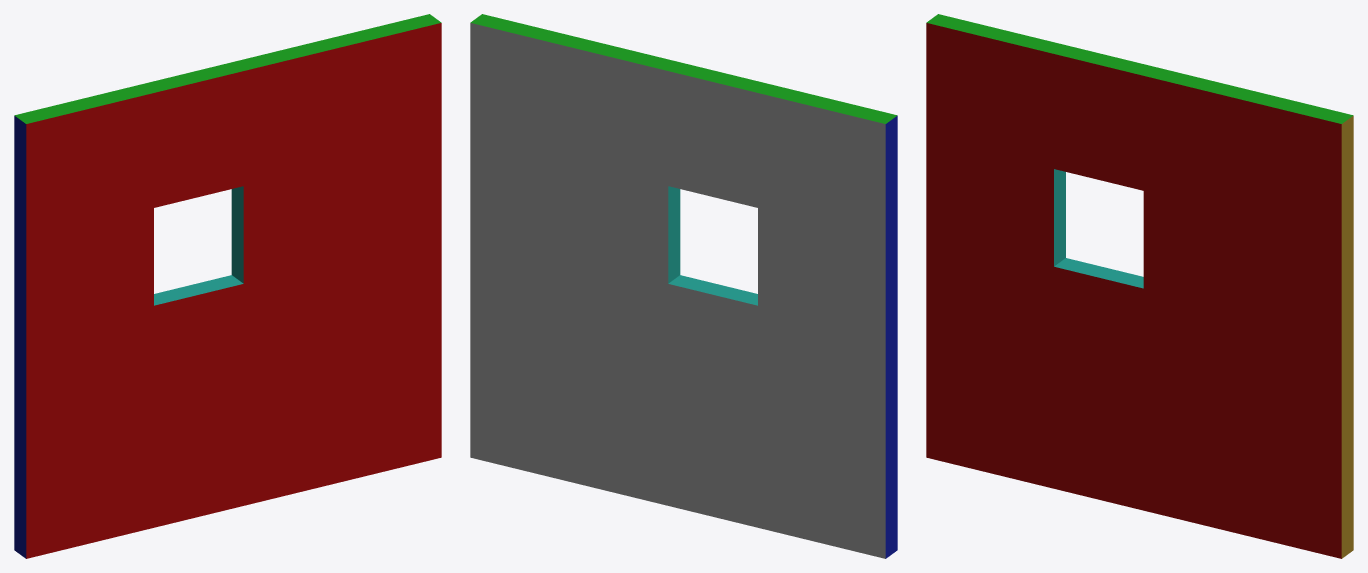
File: Wall_Window_04a.fbx
3 renders of one model, left to right at view 1: azimuth 30°, elevation 25°; view 2: azimuth 150°, elevation 25°; view 3: azimuth 330°, elevation 25°, orthographic.
Parts seen in each view (by area): view 1: Wall_Window_04a; view 2: Wall_Window_04a; view 3: Wall_Window_04a.
Boxes of the visible parts, box(x1,y1,x2,y2) form: Wall_Window_04a: box(14, 14, 441, 558); Wall_Window_04a: box(470, 14, 897, 558); Wall_Window_04a: box(926, 14, 1353, 558).
Bounding box in the file's own units: 3 × 0.15 × 3.
